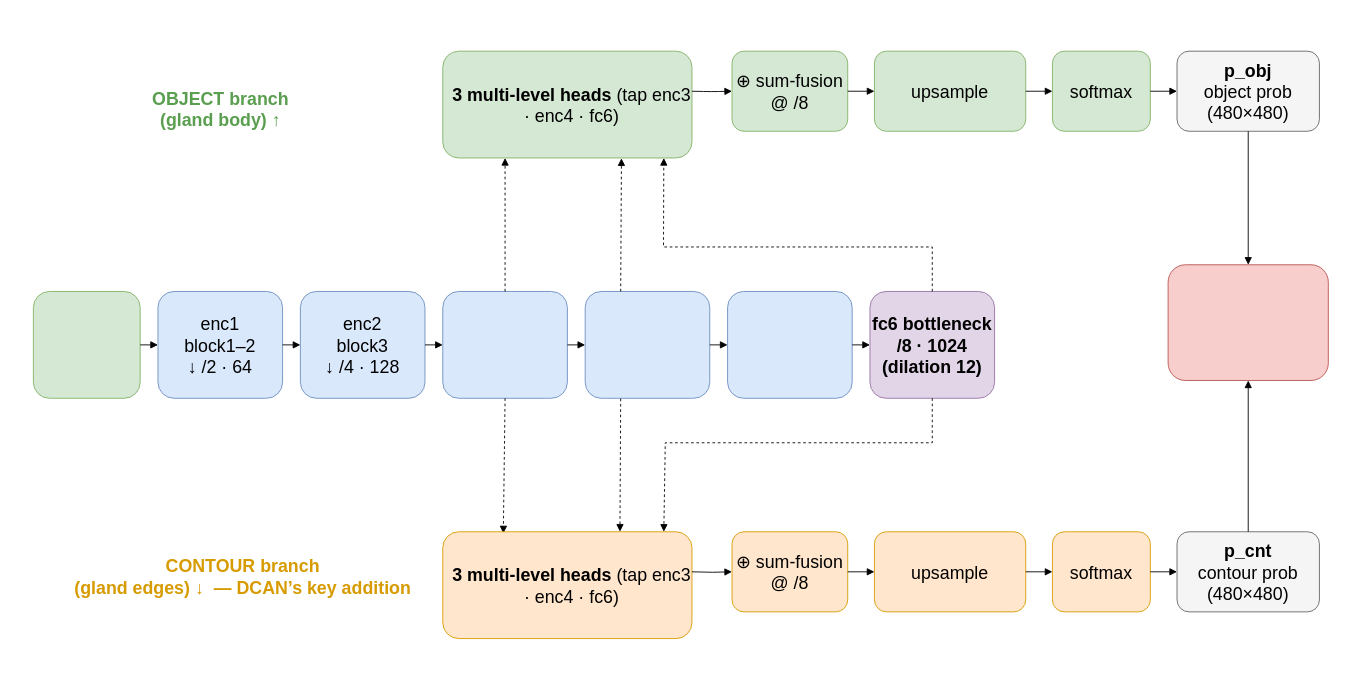
Image size: 1365x689. Some labels were removed from this diagram. The shapes that lost their labels are listed below. From the top down, each one's centre as x and y in pixels, then its label:
At (1247,322): "Fusion rule → instance map".
At (86,344): "Input 480×480×3".
At (504,344): "enc3 block4 ↓ /8 · 256".
At (647,344): "enc4 block5 convs /8 · 512 (pool4 s1)".
At (789,344): "enc5 /8 · 512 (dilation 2, pool5 s1)".
